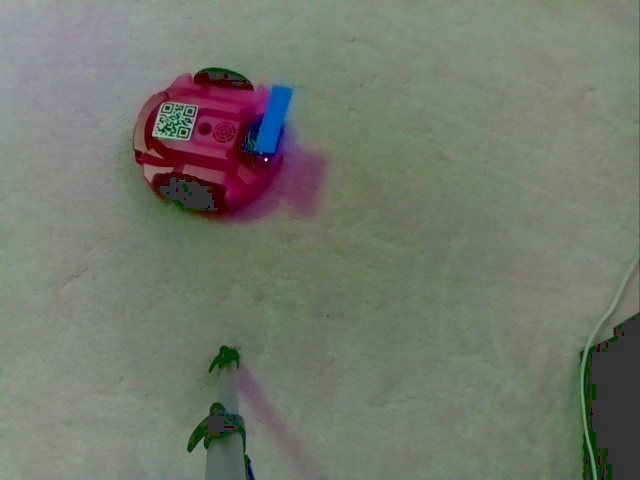board: (241, 85, 301, 171)
chassis: (126, 63, 292, 211)
